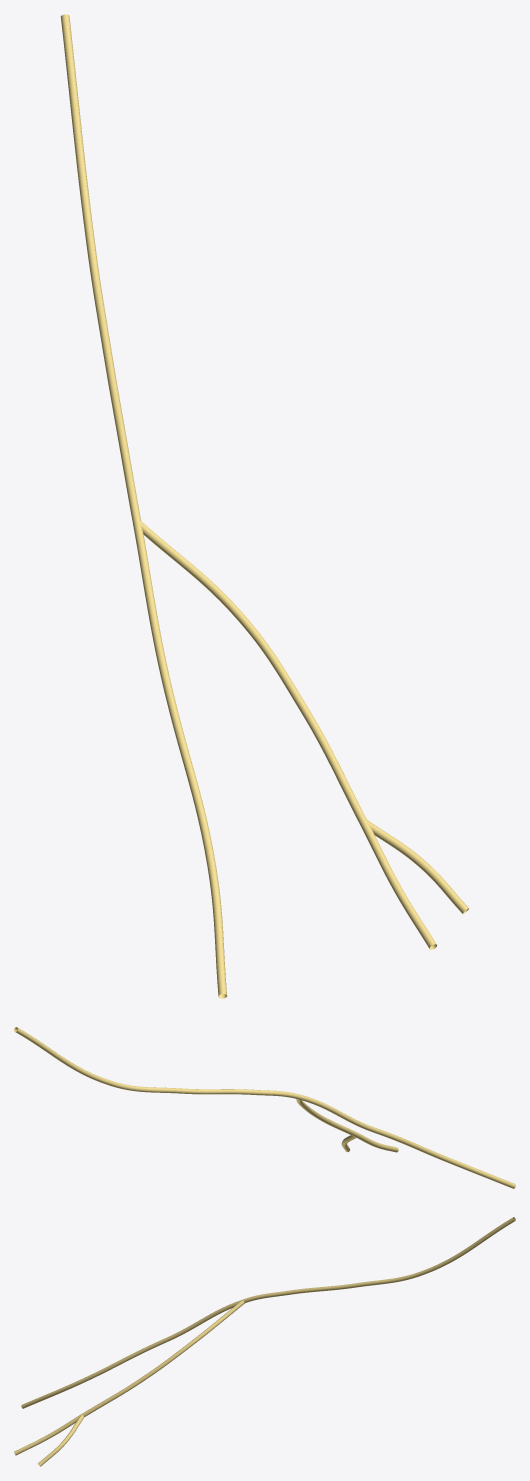
3 views of the same model, one above another, from view 1: azimuth 30°, elevation 25°; view 2: azimuth 150°, elevation 25°; view 3: azimuth 270°, elevation 25° (orthographic). The views are drawn at different scales.
Parts seen in each view (by area): view 1: ZA_004a96db9ef1e1ed; view 2: ZA_004a96db9ef1e1ed; view 3: ZA_004a96db9ef1e1ed.
Part boxes in pixels (x1=…): ZA_004a96db9ef1e1ed: x1=60, y1=14, x2=468, y2=998; ZA_004a96db9ef1e1ed: x1=14, y1=1027, x2=515, y2=1188; ZA_004a96db9ef1e1ed: x1=14, y1=1217, x2=515, y2=1466.
Bounding box in the file's own units: 0.0448 × 0.0684 × 0.1143.
